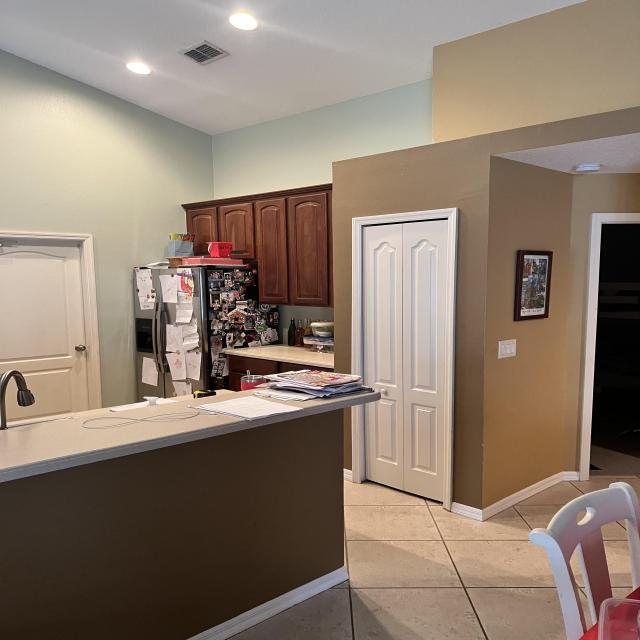Appliance_Fridge: (134, 267, 278, 399)
Appliance_Sink: (0, 369, 68, 431)
Cabinet_Flat: (223, 355, 308, 392)
Cabinet_Raised_Panel: (181, 183, 333, 309)
Countertop_Solid_Surface: (0, 388, 381, 484), (221, 345, 335, 369)
